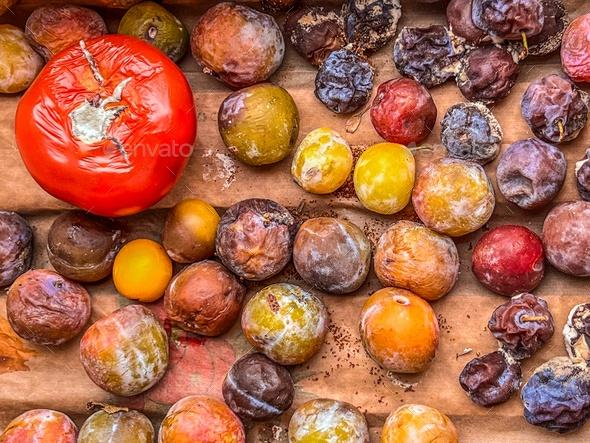Grape Rotten: (394, 25, 474, 86), (315, 49, 373, 113), (342, 0, 401, 51), (473, 0, 543, 41)
